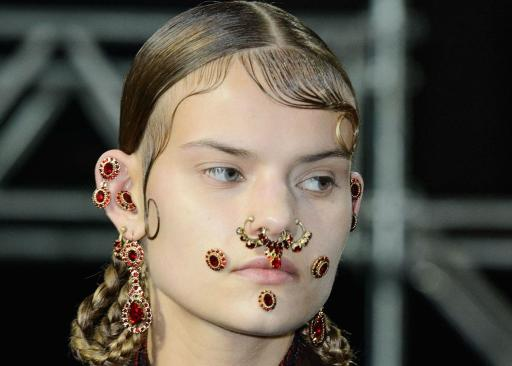left_eye: (296, 177, 341, 197)
left_lip_corner: (290, 267, 305, 283)
right_eye: (196, 165, 247, 187)
right_lip_corner: (230, 265, 245, 278)
